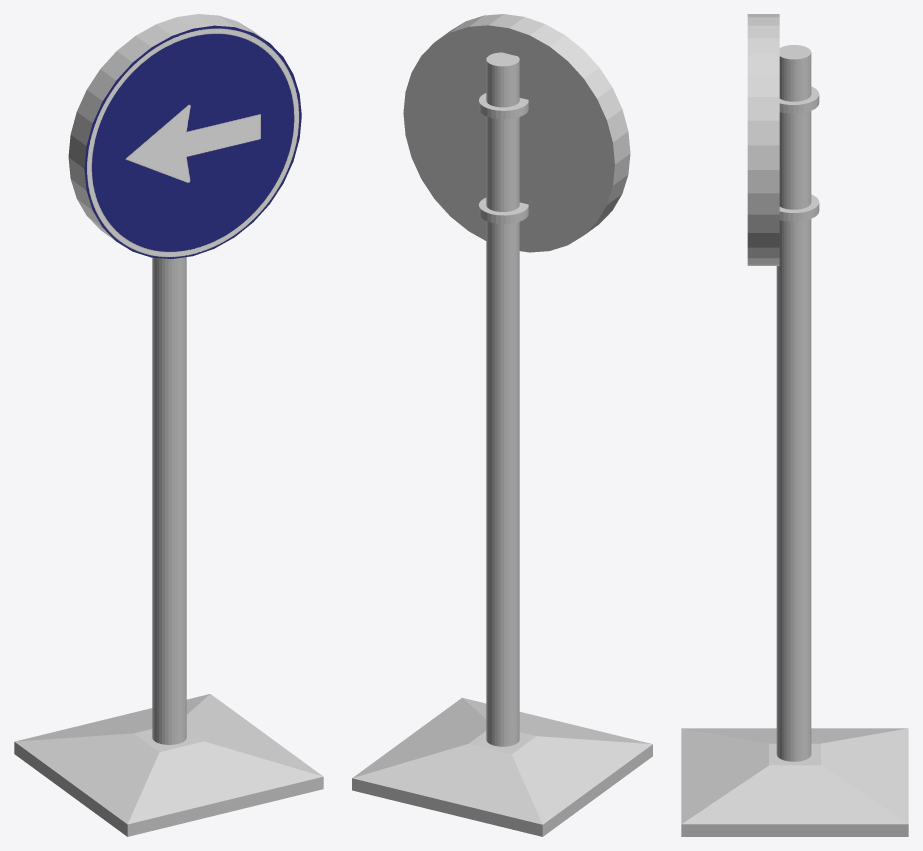
Rendered from zorunlu_yon_sol.dae.
3 renders of one model, left to right at view 1: azimuth 30°, elevation 25°; view 2: azimuth 150°, elevation 25°; view 3: azimuth 270°, elevation 25°, orthographic. The views are drawn at different scales.
Parts seen in each view (by area): view 1: Cylinder.001; view 2: Cylinder.001; view 3: Cylinder.001.
Boxes of the visible parts, bbox=[...] form: Cylinder.001: bbox=[14, 14, 323, 836]; Cylinder.001: bbox=[352, 14, 652, 836]; Cylinder.001: bbox=[681, 14, 908, 836].
Size of the model in its own units: 0.83 by 0.7483 by 2.77.
2 materials, 1 textured.
